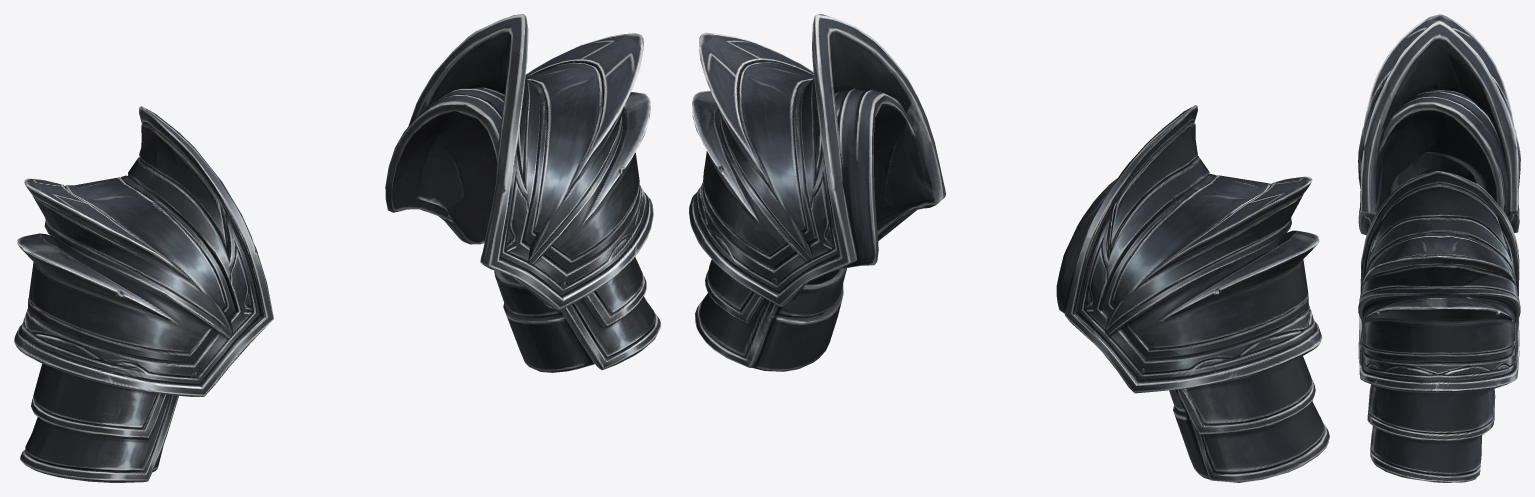
Rendered from darkplate_shoulders.glb.
The picture shows the model from 3 angles, left to right: view 1: azimuth 30°, elevation 25°; view 2: azimuth 150°, elevation 25°; view 3: azimuth 270°, elevation 25°; orthographic projection. The views are drawn at different scales.
Visible parts, largest first — view 1: Mesh_0; view 2: Mesh_0; view 3: Mesh_0.
Boxes of the visible parts, x1,y1,x2,y2 form: Mesh_0: [14, 14, 660, 482]; Mesh_0: [689, 14, 1329, 482]; Mesh_0: [1358, 14, 1520, 482].
Size of the model in its own units: 1.9 by 1.03 by 0.5284.
1 material, 1 textured.
